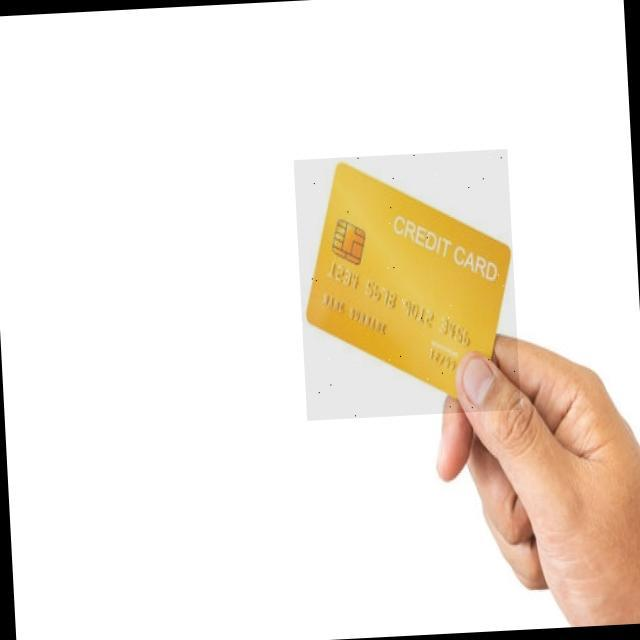payment_card: (306, 162, 515, 404)
